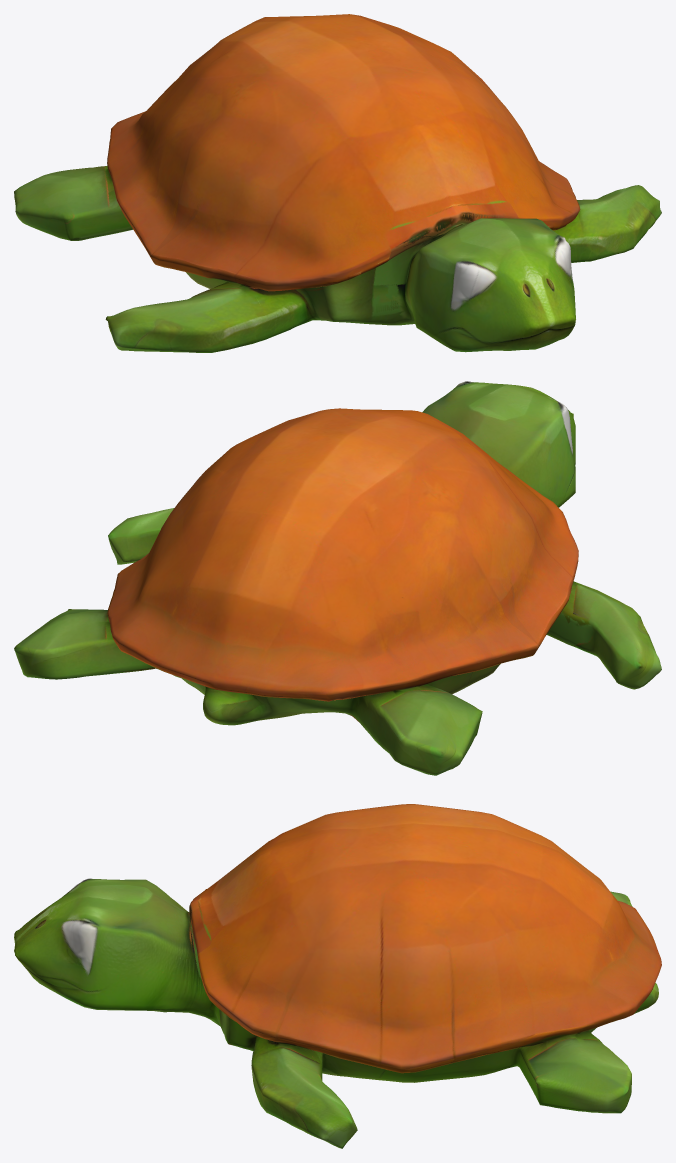
The model's file is tortoise.glb.
3 views of the same model, one above another, from view 1: azimuth 30°, elevation 25°; view 2: azimuth 150°, elevation 25°; view 3: azimuth 270°, elevation 25° (orthographic). The views are drawn at different scales.
Size of the model in its own units: 1.82 by 0.743 by 1.99.
1 material, 1 textured.
